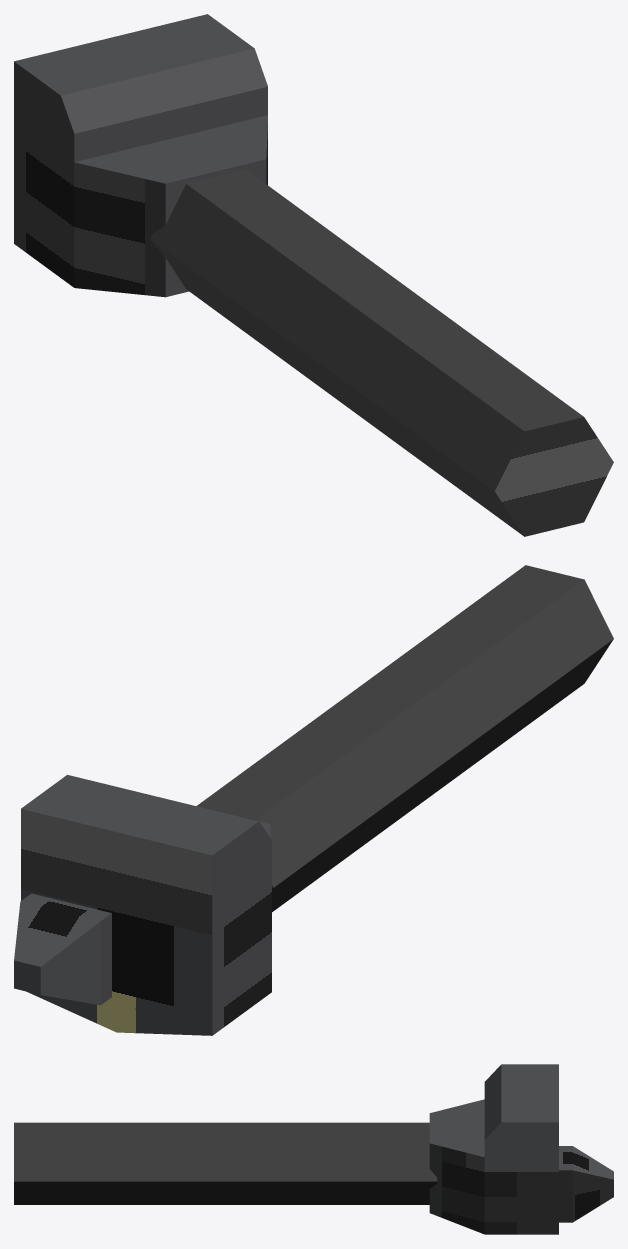
The model's file is arm.obj.
The picture shows the model from 3 angles, top to bottom: view 1: azimuth 30°, elevation 25°; view 2: azimuth 150°, elevation 25°; view 3: azimuth 270°, elevation 25°; orthographic projection. The views are drawn at different scales.
Parts seen in each view (by area): view 1: 1ba914a0-983b-e564-eff5-cdfeb9176747, 16c2b85c-7084-ef97-c597-067879421621; view 2: 1ba914a0-983b-e564-eff5-cdfeb9176747, 16c2b85c-7084-ef97-c597-067879421621, a68f8196-dbb3-df42-b51c-bebf464f8123; view 3: 1ba914a0-983b-e564-eff5-cdfeb9176747, 16c2b85c-7084-ef97-c597-067879421621, a68f8196-dbb3-df42-b51c-bebf464f8123.
Boxes of the visible parts, box(x1,y1,x2,y2) form: 1ba914a0-983b-e564-eff5-cdfeb9176747: box(150, 169, 613, 536); 16c2b85c-7084-ef97-c597-067879421621: box(14, 14, 267, 297); 1ba914a0-983b-e564-eff5-cdfeb9176747: box(196, 565, 613, 911); 16c2b85c-7084-ef97-c597-067879421621: box(21, 775, 271, 1035); a68f8196-dbb3-df42-b51c-bebf464f8123: box(14, 893, 111, 1005); 1ba914a0-983b-e564-eff5-cdfeb9176747: box(14, 1122, 437, 1204); 16c2b85c-7084-ef97-c597-067879421621: box(429, 1064, 558, 1234); a68f8196-dbb3-df42-b51c-bebf464f8123: box(559, 1146, 613, 1222).
Bounding box in the file's own units: 0.3125 × 0.3125 × 1.36.
